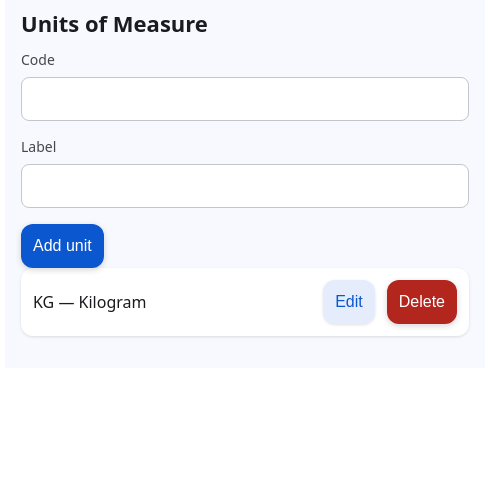
UnitsPage › edits an existing unit
Check: the text "KG — Kilogram" is shown, box [33,291,146,313]
Click the button "Edit": [349, 302] box [323,280,375,324]
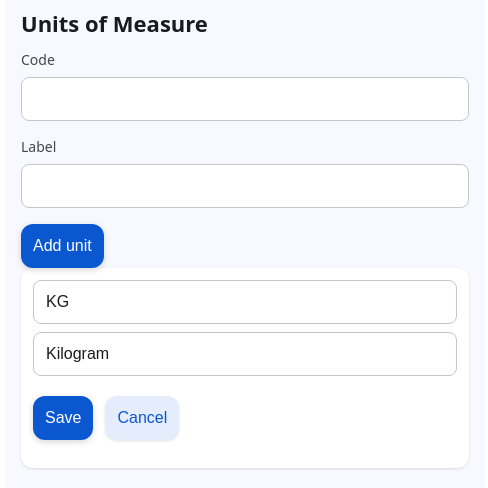
Replace the text in the field named "edit code" with "KGM": [245, 302] box [33,280,457,324]
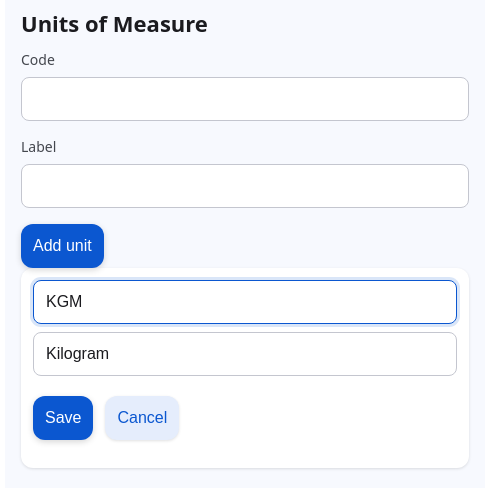
Click the button "Save": [63, 418] box [33,396,94,440]
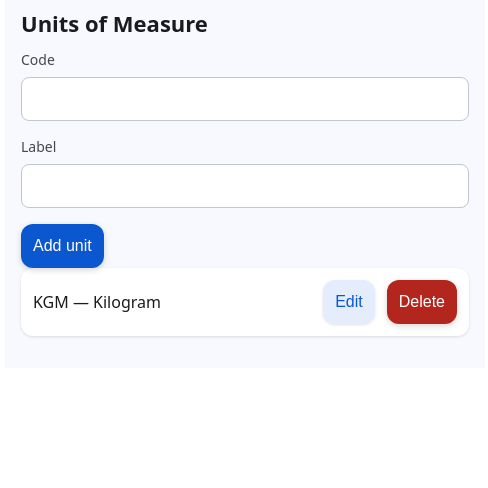
Check: the text "KGM — Kilogram" is shown, box [33,291,161,313]
